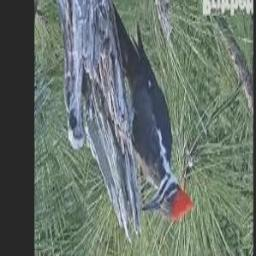Woodpecker: (110, 0, 193, 221)
